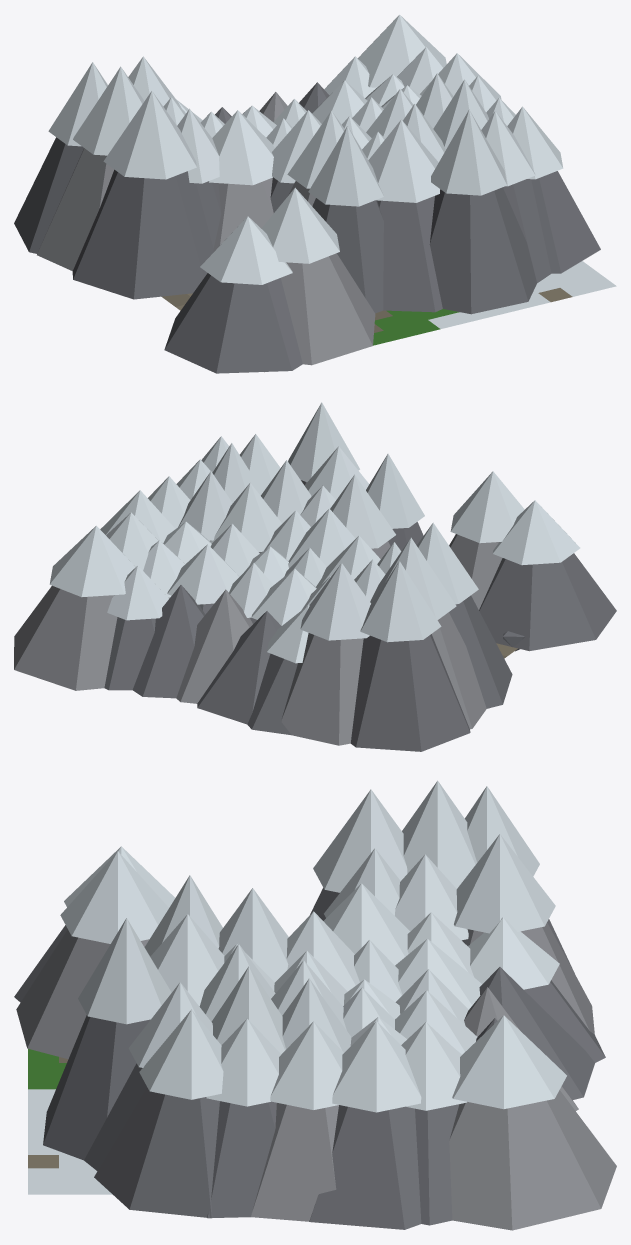
Rendered from chunk_10_0.glb.
The picture shows the model from 3 angles, top to bottom: view 1: azimuth 30°, elevation 25°; view 2: azimuth 150°, elevation 25°; view 3: azimuth 270°, elevation 25°; orthographic projection. The views are drawn at different scales.
Parts seen in each view (by area): view 1: chunk_10_0; view 2: chunk_10_0; view 3: chunk_10_0.
Part boxes in pixels (box(x1,y1,x2,y2)): chunk_10_0: box(14, 14, 616, 373); chunk_10_0: box(14, 402, 616, 751); chunk_10_0: box(14, 780, 616, 1230).
Size of the model in its own units: 21.18 by 8.15 by 19.36.
